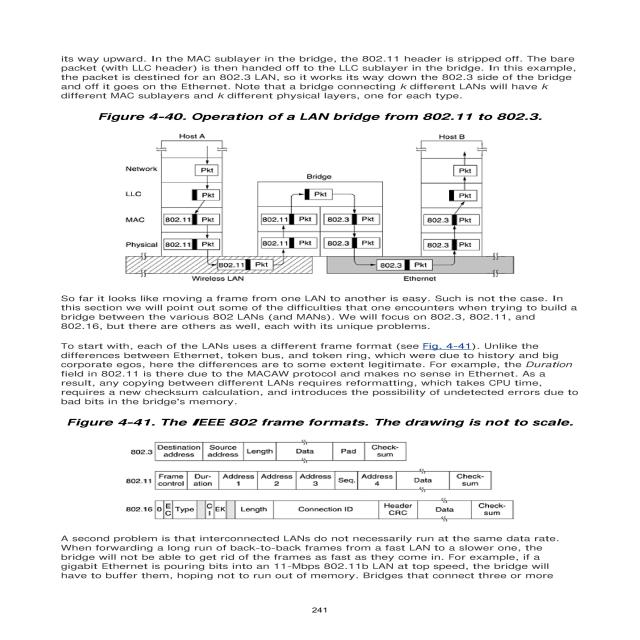diagram: (69, 105, 554, 291), (31, 407, 627, 530)
